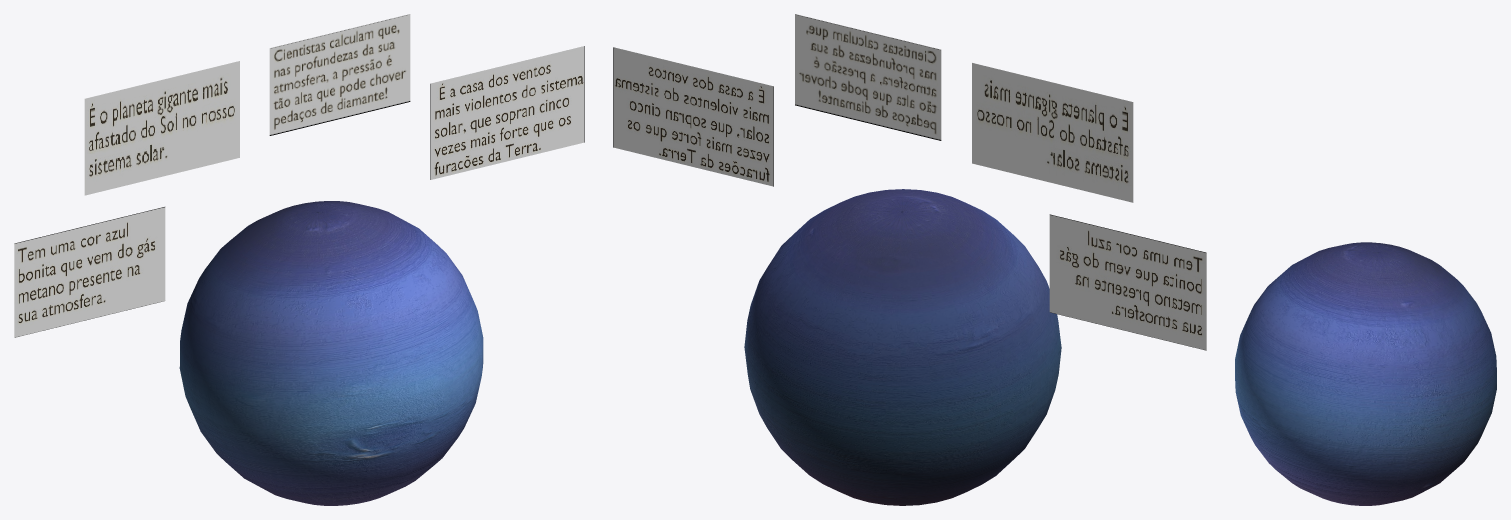
Rendered from netuno.glb.
3 renders of one model, left to right at view 1: azimuth 30°, elevation 25°; view 2: azimuth 150°, elevation 25°; view 3: azimuth 270°, elevation 25°, orthographic. The views are drawn at different scales.
Parts seen in each view (by area): view 1: Terra.003, Plane.016, Plane.018, Plane.019, Plane.017; view 2: Terra.003, Plane.016, Plane.018, Plane.019, Plane.017; view 3: Terra.003.
Boxes of the visible parts, bbox=[...] form: Terra.003: bbox=[179, 201, 483, 505]; Plane.016: bbox=[84, 61, 239, 195]; Plane.018: bbox=[430, 46, 584, 179]; Plane.019: bbox=[14, 207, 165, 337]; Plane.017: bbox=[269, 14, 410, 135]; Terra.003: bbox=[744, 189, 1061, 505]; Plane.016: bbox=[972, 63, 1133, 202]; Plane.018: bbox=[613, 47, 773, 186]; Plane.019: bbox=[1049, 214, 1206, 350]; Plane.017: bbox=[795, 14, 941, 140]; Terra.003: bbox=[1235, 242, 1496, 505].
Bounding box in the file's own units: 2.82 × 2.1 × 1.29.
2 materials, 2 textured.
